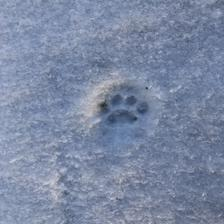puma: (78, 29, 176, 114), (59, 124, 152, 195)
